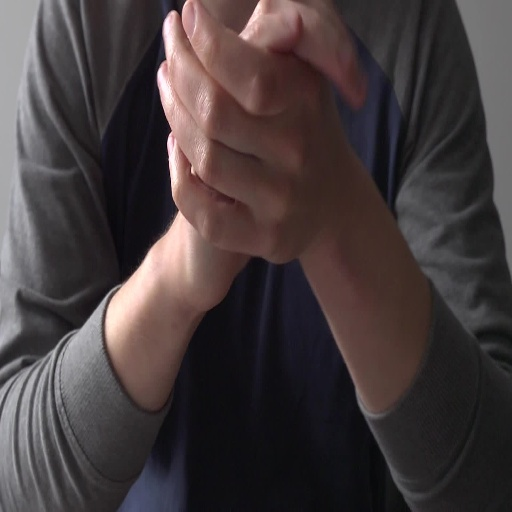hand: (167, 0, 369, 320)
